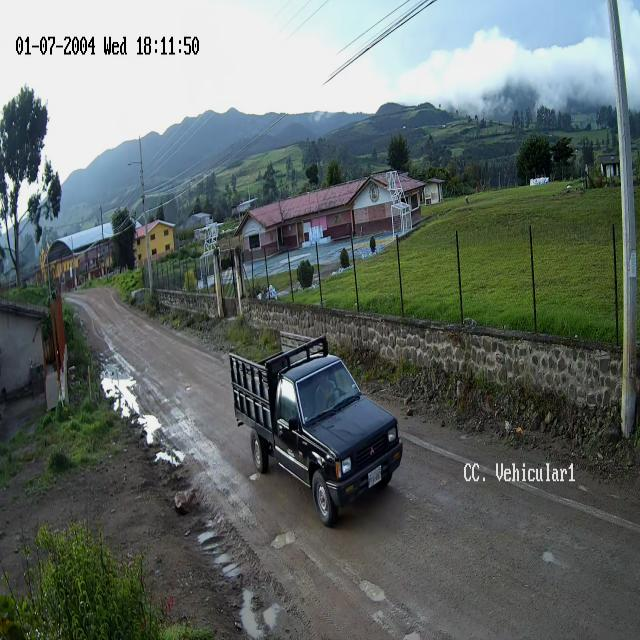CMT: (229, 340, 404, 526)
